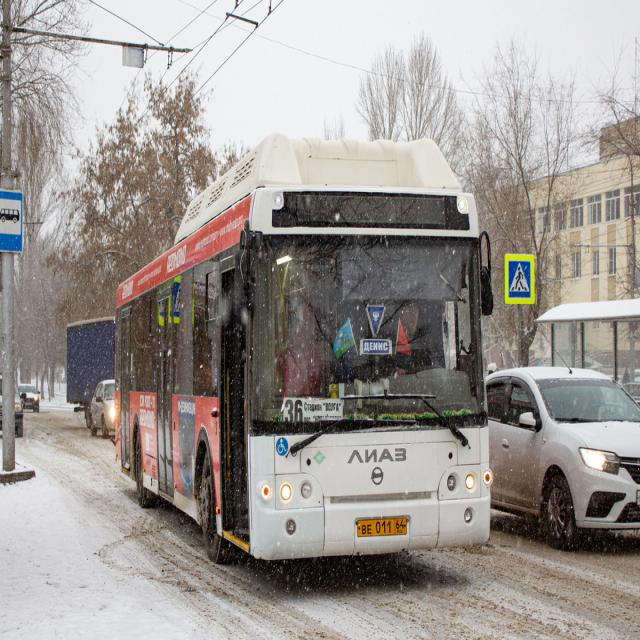number-of-bus: (285, 398, 305, 427)
